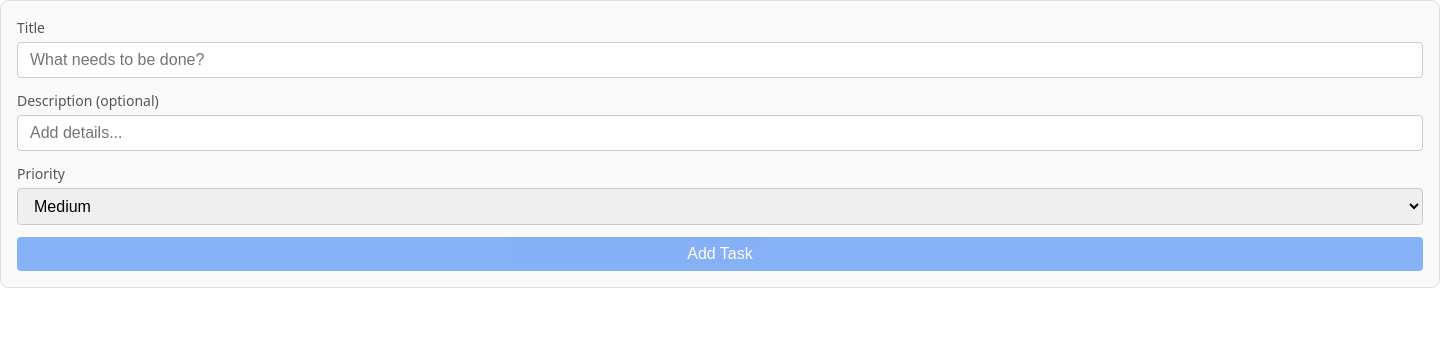
TaskForm › shows error message when submission fails
Step 1. Type "Buy milk" into the field labelled "Title" → (720, 60), box [17,42,1423,78]
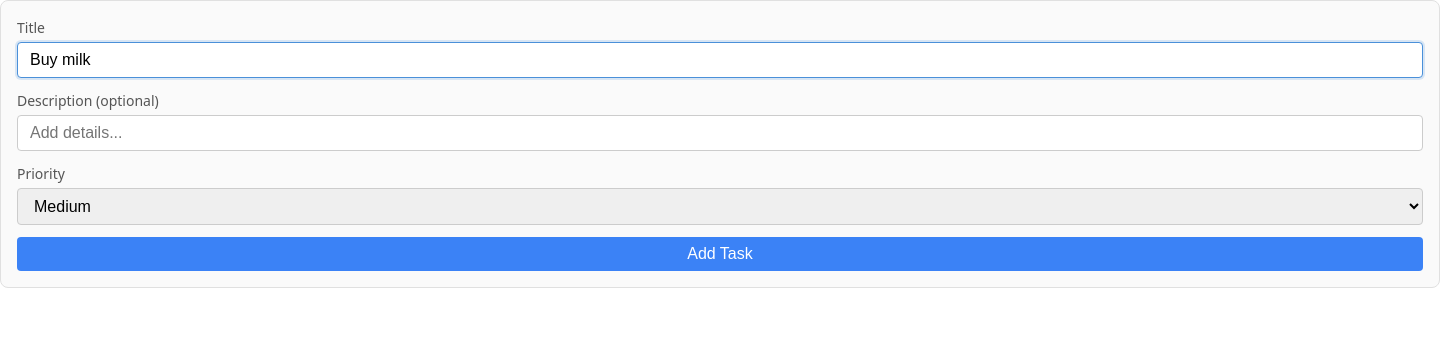
Step 2. Click the button "Add Task" → click(720, 254), box [17,237,1423,271]
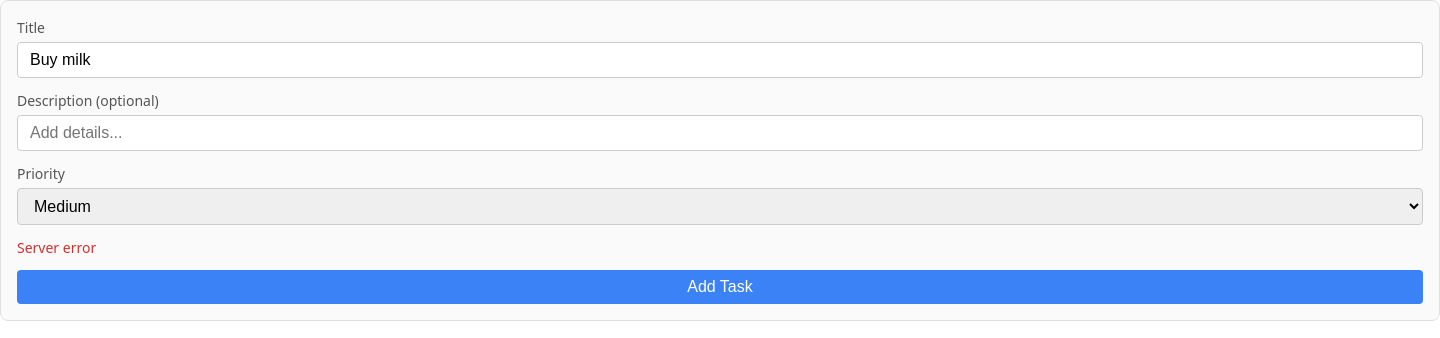
Now the message reads "Server error", box [17,238,96,257]
